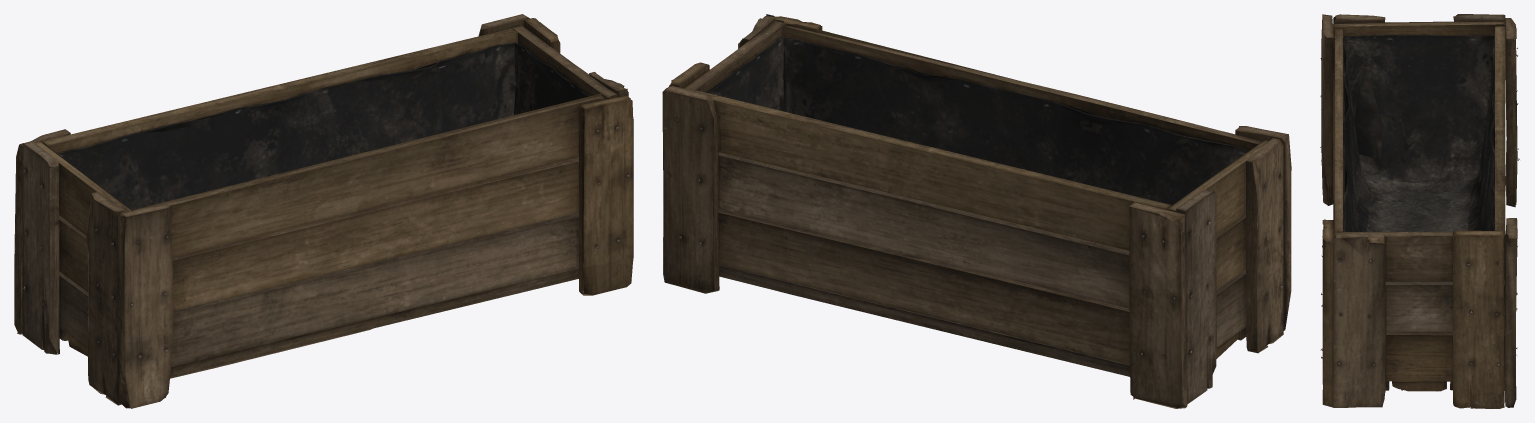
Rendered from planter_box_b.glb.
3 views of the same model, side by side, from view 1: azimuth 30°, elevation 25°; view 2: azimuth 150°, elevation 25°; view 3: azimuth 270°, elevation 25° (orthographic). The views are drawn at different scales.
Parts seen in each view (by area): view 1: planter_box_b; view 2: planter_box_b; view 3: planter_box_b.
Boxes of the visible parts, left/top/right/bottom form: planter_box_b: left=14, top=14, right=633, bottom=408; planter_box_b: left=662, top=14, right=1291, bottom=408; planter_box_b: left=1320, top=14, right=1519, bottom=408.
Bounding box in the file's own units: 1.26 × 0.4552 × 0.473.
Materials: 1 (1 with a texture image).
